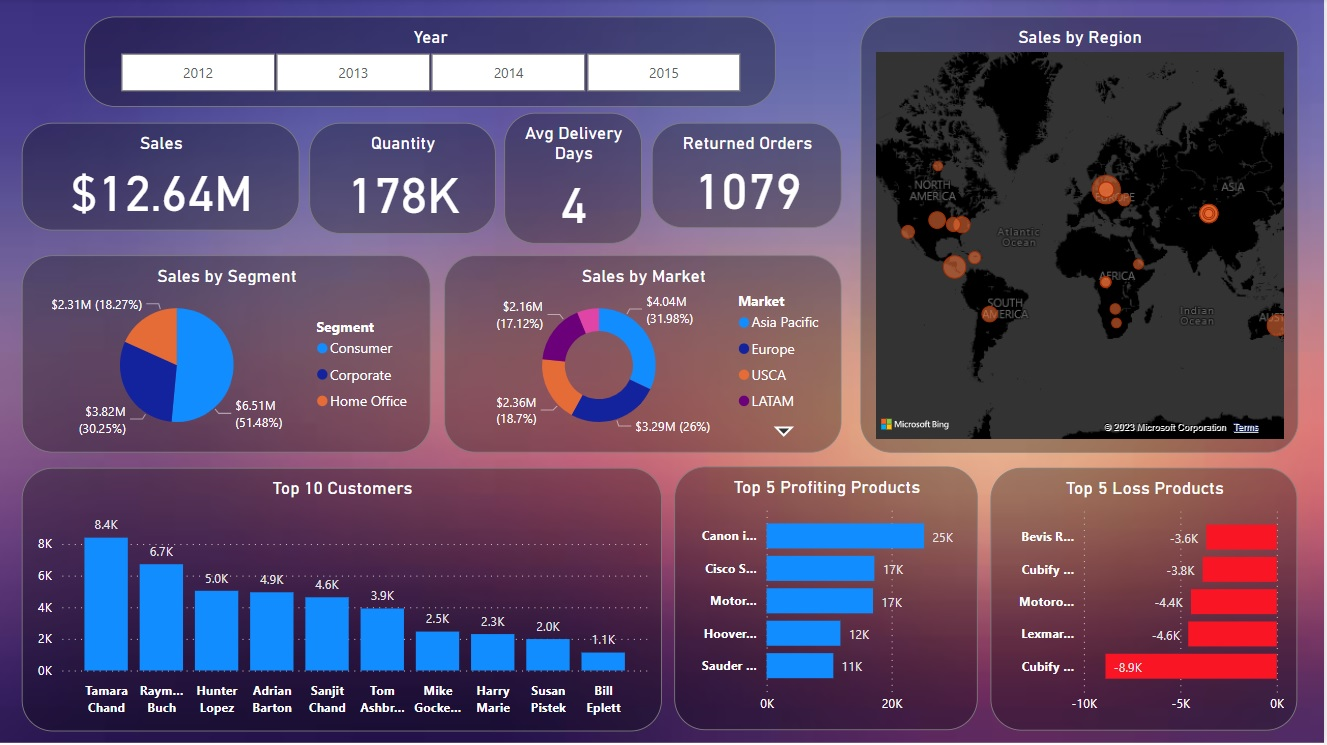

The page's visual inventory and layout, read from the dashboard file:
{"tool":"powerbi","page":{"name":"Page 1","canvas":[1280,720],"ordinal":0},"visuals":[{"type":"card","title":"Sales","fields":{"Values":["Orders.Sales"]},"box":[22.9,119.4,267.7,103.7],"z":0},{"type":"card","title":"Quantity","fields":{"Values":["Orders.Quantity"]},"box":[300.3,119.4,179.7,107.3],"z":1000},{"type":"card","title":"Avg Delivery Days","fields":{"Values":["Orders.Delivery Days"]},"box":[488.4,109.7,132.7,126.6],"z":2000},{"type":"slicer","title":"Year","fields":{"Values":["Orders.Year"]},"box":[83.2,16.9,666.9,86.8],"z":3000},{"type":"card","title":"Returned Orders","fields":{"Values":["Returns.Returned Orders"]},"box":[630.8,119.4,183.3,101.3],"z":4000},{"type":"map","title":"Sales by Region","fields":{"Size":["Orders.Sales"],"Category":["Orders.Region"]},"box":[832.2,16.9,422.1,420.9],"z":5000},{"type":"barChart","title":"Top 5 Profiting Products","fields":{"Category":["Orders.Product Name"],"Y":["Orders.Profit"]},"box":[652.5,451.1,293.1,254.5],"z":6000},{"type":"barChart","title":"Top 5 Loss Products","fields":{"Category":["Orders.Product Name"],"Y":["Orders.Profit"]},"box":[957.8,452.8,296.4,253.9],"z":7000},{"type":"donutChart","title":"Sales by Market","fields":{"Y":["Orders.Sales"],"Category":["Orders.Market"]},"box":[430.6,247.2,383.5,190.6],"z":7001},{"type":"pieChart","title":"Sales by Segment","fields":{"Category":["Orders.Segment"],"Y":["Orders.Sales"]},"box":[22.9,247.2,394.4,190.6],"z":7002},{"type":"clusteredColumnChart","title":"Top 5 Profiting Products","fields":{"Y":["Orders.Profit"],"Category":["Orders.Customer Name"]},"box":[22.9,452.3,617.5,254.5],"z":7003}]}

Visuals, with their boxes in screenshot pixels (x1, y1, x2, y2), scaled from the page's 1280x720 canvas onto the 1327x745 screenshot:
"Sales" card: BBox(24, 124, 301, 231)
"Quantity" card: BBox(311, 124, 498, 235)
"Avg Delivery Days" card: BBox(506, 114, 644, 245)
"Year" slicer: BBox(86, 17, 778, 107)
"Returned Orders" card: BBox(654, 124, 844, 228)
"Sales by Region" map: BBox(863, 17, 1300, 453)
"Top 5 Profiting Products" barChart: BBox(676, 467, 980, 730)
"Top 5 Loss Products" barChart: BBox(993, 469, 1300, 731)
"Sales by Market" donutChart: BBox(446, 256, 844, 453)
"Sales by Segment" pieChart: BBox(24, 256, 433, 453)
"Top 5 Profiting Products" clusteredColumnChart: BBox(24, 468, 664, 731)
